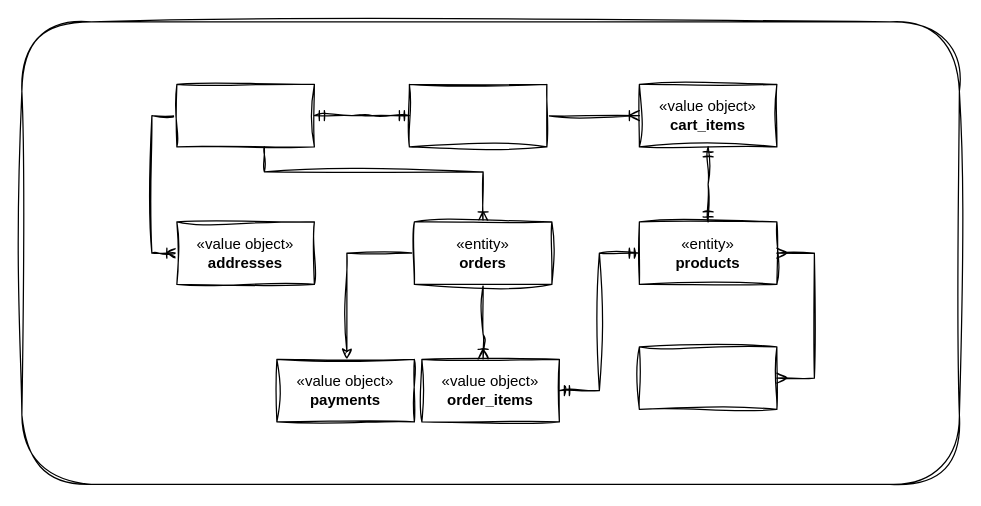
This 981x506 diagram has some shape labels left out. Each missing label, with the centre of its shape:
«entity» carts: the point at 477,115
«entity» categories: the point at 707,377
«entity» users: the point at 245,115
